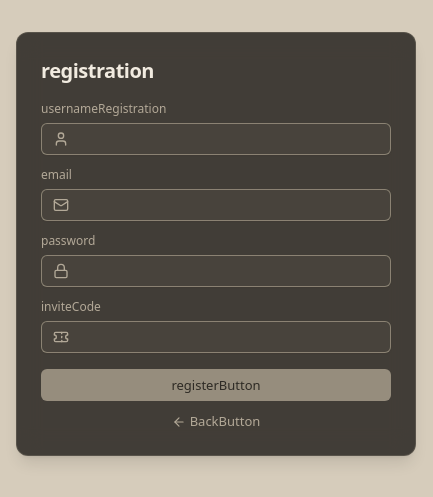
Test case: Registration outcomes › explains a rejection saying user_exists
Type "reader" into the field labelled "usernameRegistration" at (216, 139), box [41,123,391,155]
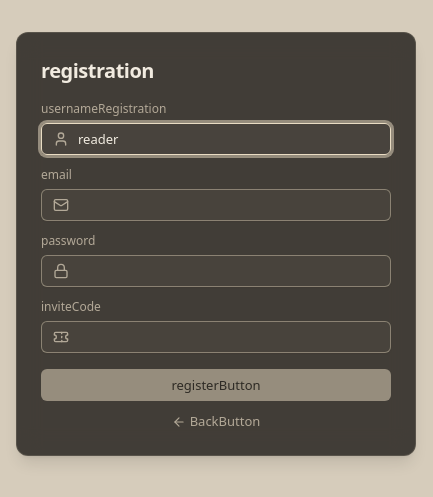
Type "reader@example.com" into the field labelled "email" at (216, 205), box [41,189,391,221]
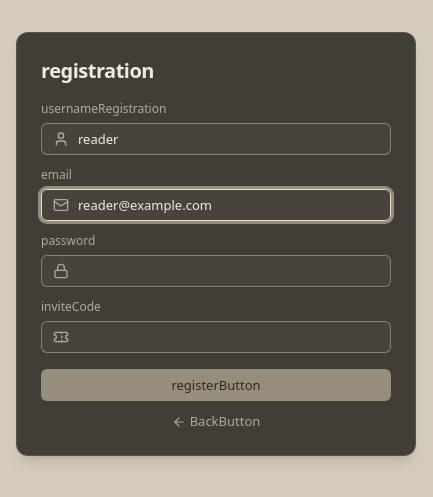
Type "secret" into the password field labelled "password" at (216, 271), box [41,255,391,287]
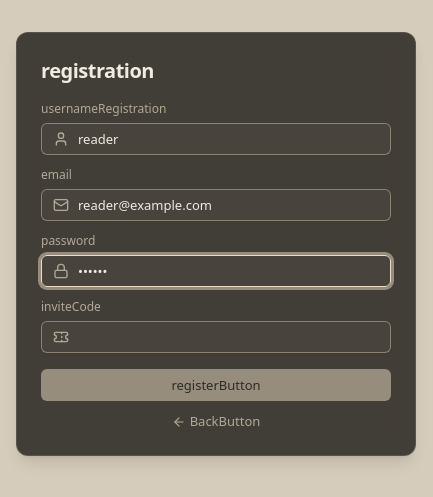
Type "invite" into the field labelled "inviteCode" at (216, 337), box [41,321,391,353]
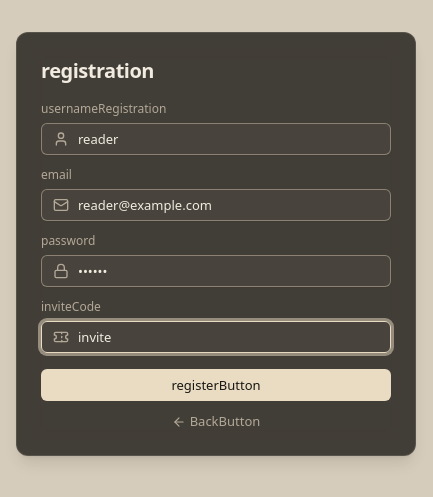
Click the button "registerButton" at (216, 385), box [41,369,391,401]
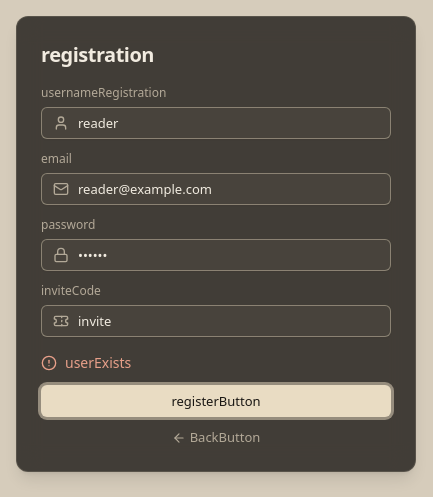
Check: the message reads "userExists", box [65,353,131,372]
